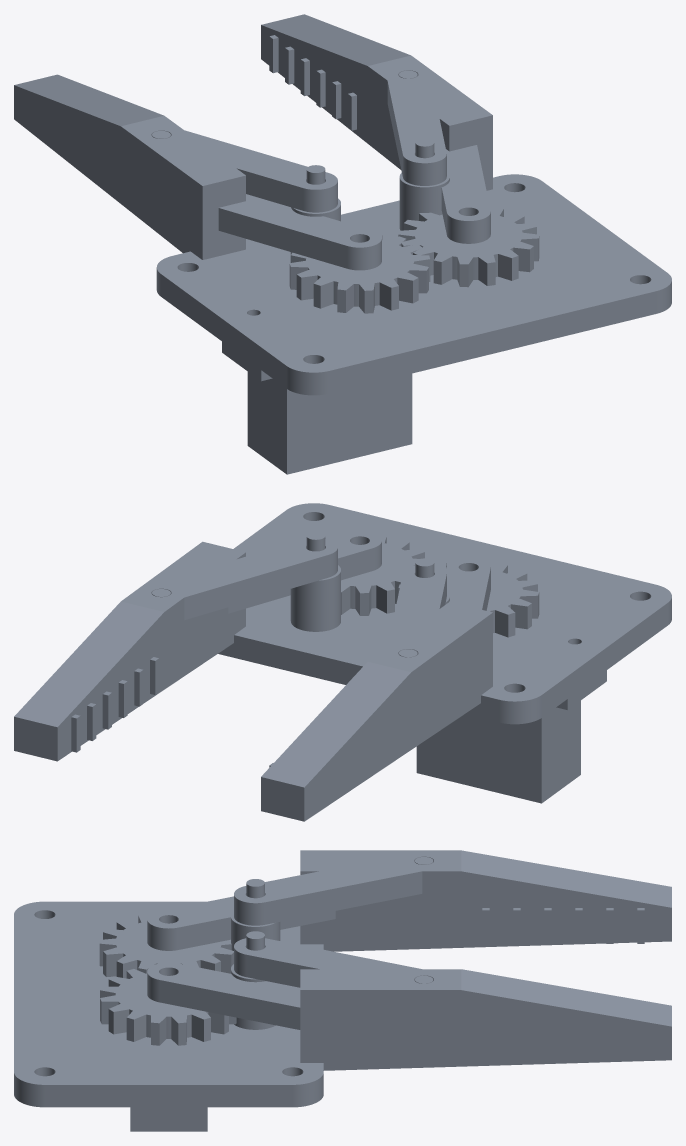
Rendered from step-5.glb.
3 renders of one model, top to bottom at view 1: azimuth 30°, elevation 25°; view 2: azimuth 150°, elevation 25°; view 3: azimuth 270°, elevation 25°, orthographic.
Parts seen in each view (by area): view 1: face_2266b7da4a20d69a9369, face_b4b2a2f78c2e31fe58a9, face_587b5f540bef7b1a8fe7, face_90e705d0b79c586715c6, face_75d006a8ca76424f0d15, face_8b1bd24044b53a3dd5af, face_2648c6eeb753a05753f9, face_b45300e8bf96d87e63eb, face_a6bdd665ad03e92fe804, face_6d481bd5ef52b28ecf3b, face_ec89a94b444b151467b2, face_37c7222de7f16012519c (+14 smaller); view 2: face_2266b7da4a20d69a9369, face_b4b2a2f78c2e31fe58a9, face_8b1bd24044b53a3dd5af, face_fc6b88b5daad128f4f4d, face_37c7222de7f16012519c, face_ec89a94b444b151467b2, face_2648c6eeb753a05753f9, face_b45300e8bf96d87e63eb, face_75d006a8ca76424f0d15, face_1713bfa9cd2cdc202364, face_492090802049364cce1e, face_a6bdd665ad03e92fe804 (+10 smaller); view 3: face_2266b7da4a20d69a9369, face_a1a7c5086ad4e266a438, face_6e7eb9b434c6c9b2c3df, face_4eaf18a6b39c55dc2bdb, face_75d006a8ca76424f0d15, face_ec89a94b444b151467b2, face_37c7222de7f16012519c, face_2648c6eeb753a05753f9, face_b45300e8bf96d87e63eb, face_4f8a42ae645d510d0579, face_07b68d97221456826081, face_420132dd464f2ad33996 (+12 smaller).
Part boxes in pixels (x1,y1,x2,y2): face_2266b7da4a20d69a9369: [156, 174, 671, 372]; face_b4b2a2f78c2e31fe58a9: [14, 85, 202, 259]; face_587b5f540bef7b1a8fe7: [261, 370, 412, 474]; face_90e705d0b79c586715c6: [329, 291, 656, 393]; face_75d006a8ca76424f0d15: [289, 207, 539, 290]; face_8b1bd24044b53a3dd5af: [261, 25, 449, 169]; face_2648c6eeb753a05753f9: [139, 125, 337, 189]; face_b45300e8bf96d87e63eb: [386, 65, 446, 163]; face_a6bdd665ad03e92fe804: [247, 372, 286, 474]; face_6d481bd5ef52b28ecf3b: [218, 208, 347, 268]; face_ec89a94b444b151467b2: [261, 14, 410, 65]; face_37c7222de7f16012519c: [14, 74, 163, 126]; face_2266b7da4a20d69a9369: [233, 503, 671, 701]; face_b4b2a2f78c2e31fe58a9: [304, 613, 492, 821]; face_8b1bd24044b53a3dd5af: [57, 552, 245, 760]; face_fc6b88b5daad128f4f4d: [416, 699, 567, 803]; face_37c7222de7f16012519c: [261, 662, 410, 787]; face_ec89a94b444b151467b2: [14, 601, 163, 727]; face_2648c6eeb753a05753f9: [386, 565, 446, 662]; face_b45300e8bf96d87e63eb: [139, 539, 337, 602]; face_75d006a8ca76424f0d15: [325, 534, 538, 614]; face_1713bfa9cd2cdc202364: [218, 635, 498, 722]; face_492090802049364cce1e: [184, 555, 328, 620]; face_a6bdd665ad03e92fe804: [541, 700, 580, 803]; face_2266b7da4a20d69a9369: [14, 901, 323, 1084]; face_a1a7c5086ad4e266a438: [300, 990, 671, 1070]; face_6e7eb9b434c6c9b2c3df: [300, 871, 671, 951]; face_4eaf18a6b39c55dc2bdb: [45, 1085, 292, 1107]; face_75d006a8ca76424f0d15: [99, 914, 233, 1023]; face_ec89a94b444b151467b2: [461, 969, 671, 1026]; face_37c7222de7f16012519c: [461, 850, 671, 907]; face_2648c6eeb753a05753f9: [234, 851, 445, 903]; face_b45300e8bf96d87e63eb: [234, 938, 445, 988]; face_4f8a42ae645d510d0579: [264, 871, 422, 924]; face_07b68d97221456826081: [159, 980, 300, 1029]; face_420132dd464f2ad33996: [147, 962, 300, 1007].
Bounding box in the file's own units: 0.07 × 0.0415 × 0.1062.
